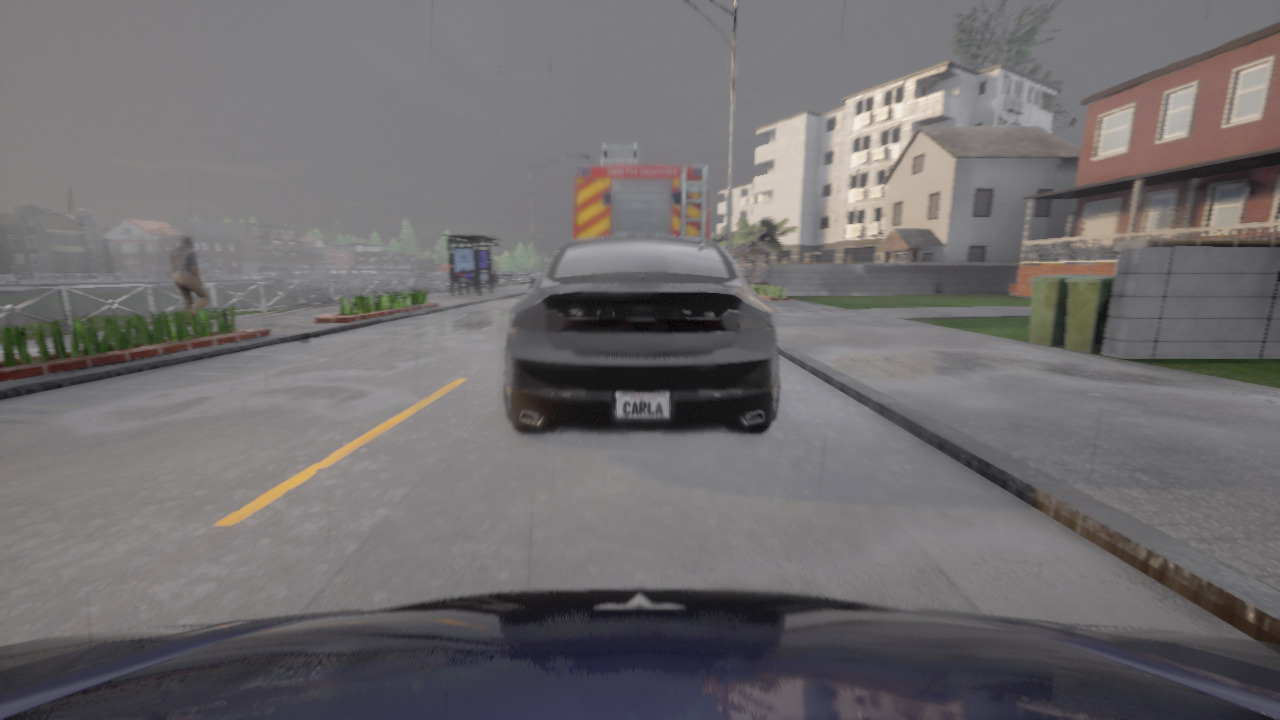cyclist: (0, 588, 1279, 719), (504, 234, 779, 433), (573, 143, 709, 240)
pedestrian: (169, 235, 209, 325), (493, 270, 498, 289), (486, 282, 489, 289)
